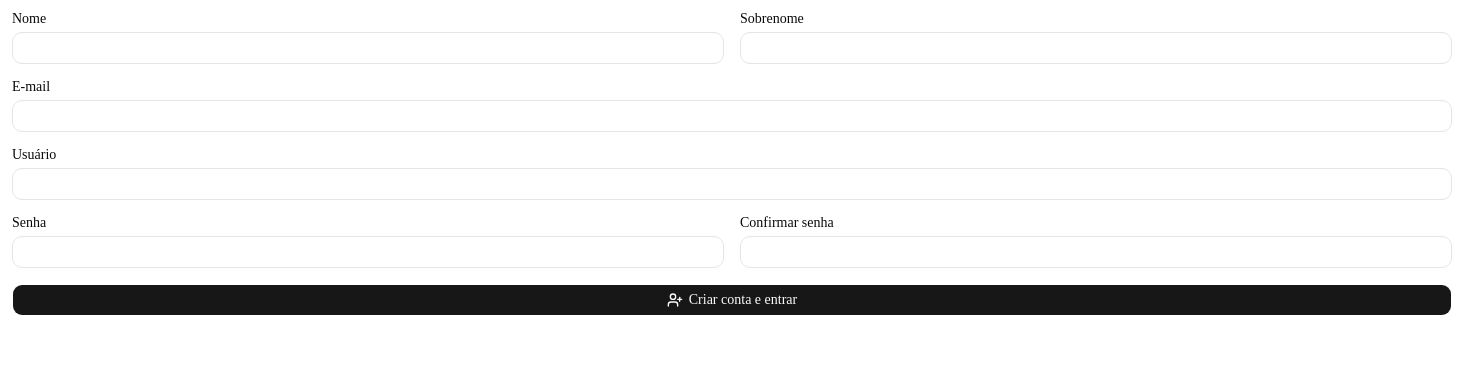
Test: FormularioCadastro › deve tolerar resposta de erro sem JSON
The image size is (1464, 384).
In the field labelled "Nome": (368, 48) [12, 32, 724, 64], type "Carla"
In the field labelled "Sobrenome": (1096, 48) [740, 32, 1452, 64], type "Dias"
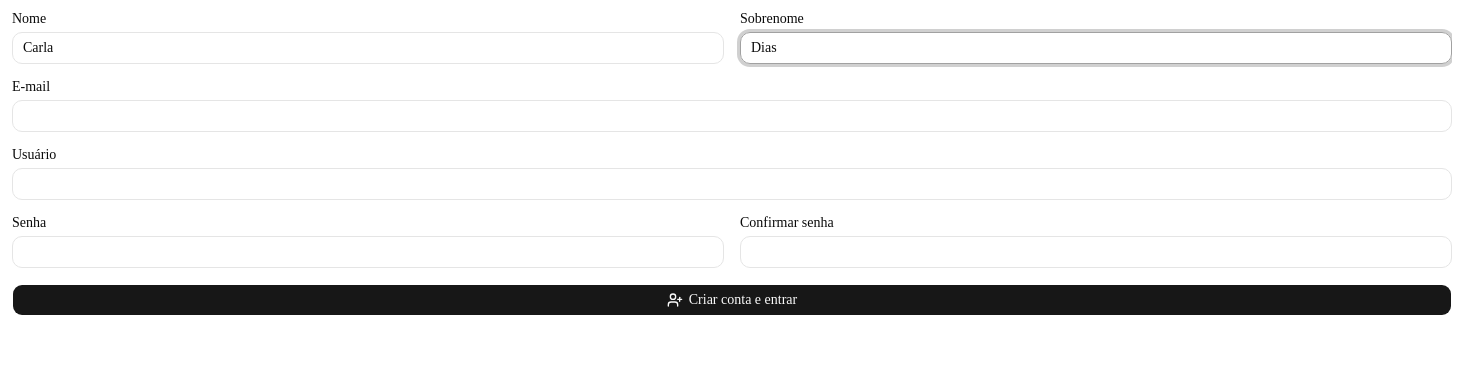
In the field labelled "E-mail": (732, 116) [12, 100, 1452, 132], type "carla@exemplo.com.br"
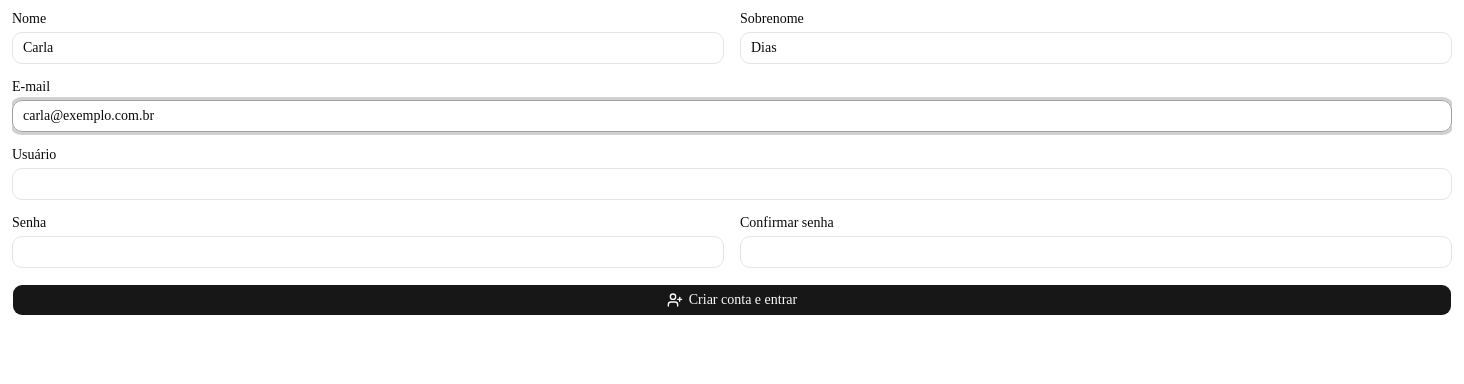
In the field labelled "Usuário": (732, 184) [12, 168, 1452, 200], type "carla"
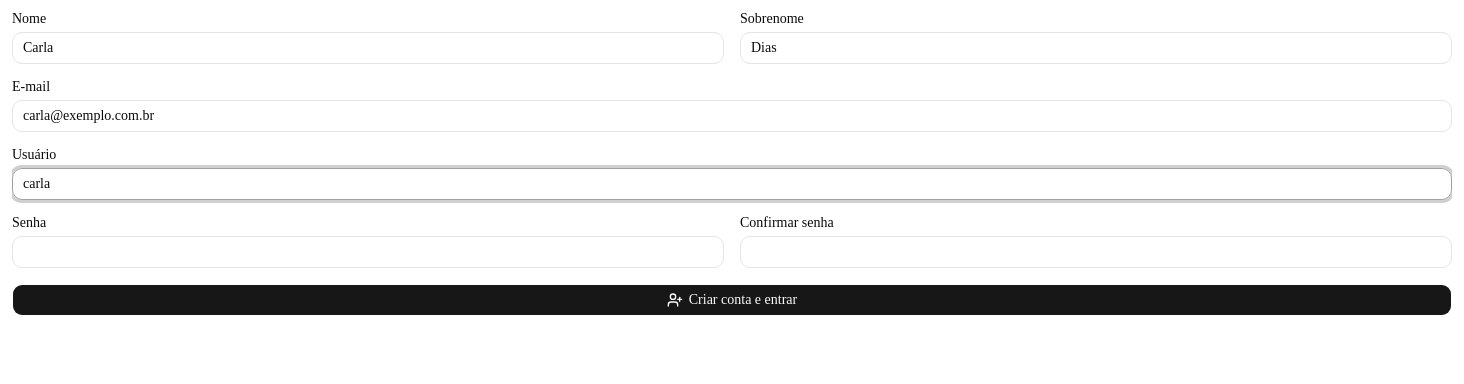
In the password field labelled "Senha": (368, 252) [12, 236, 724, 268], type "segredo123"
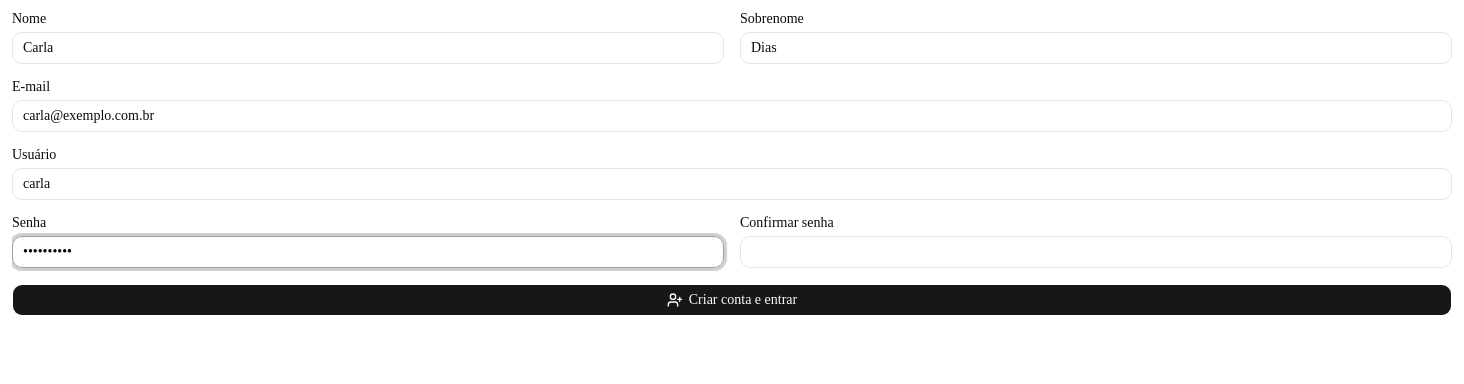
In the password field labelled "Confirmar senha": (1096, 252) [740, 236, 1452, 268], type "segredo123"
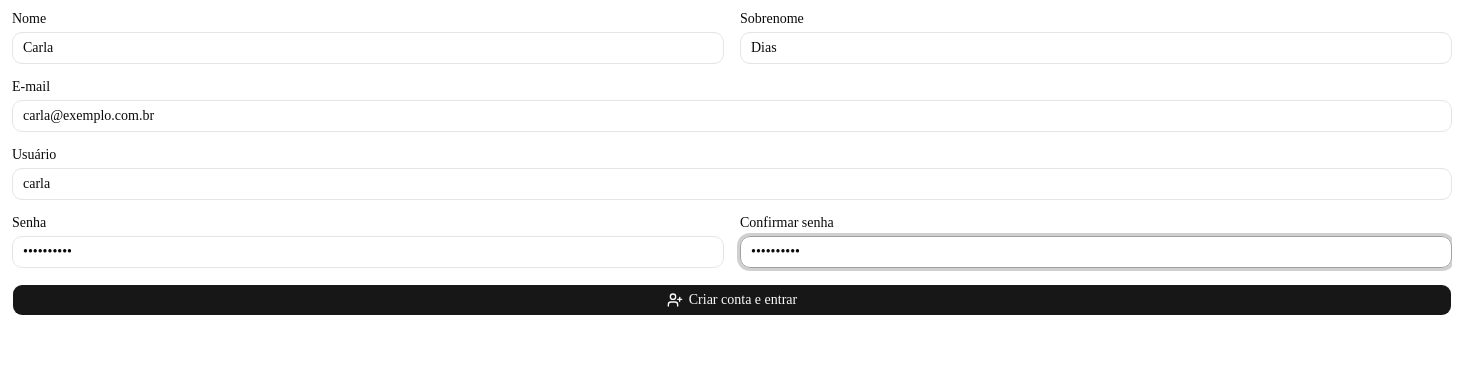
Click the button "Criar conta e entrar": (732, 300) [12, 284, 1452, 316]
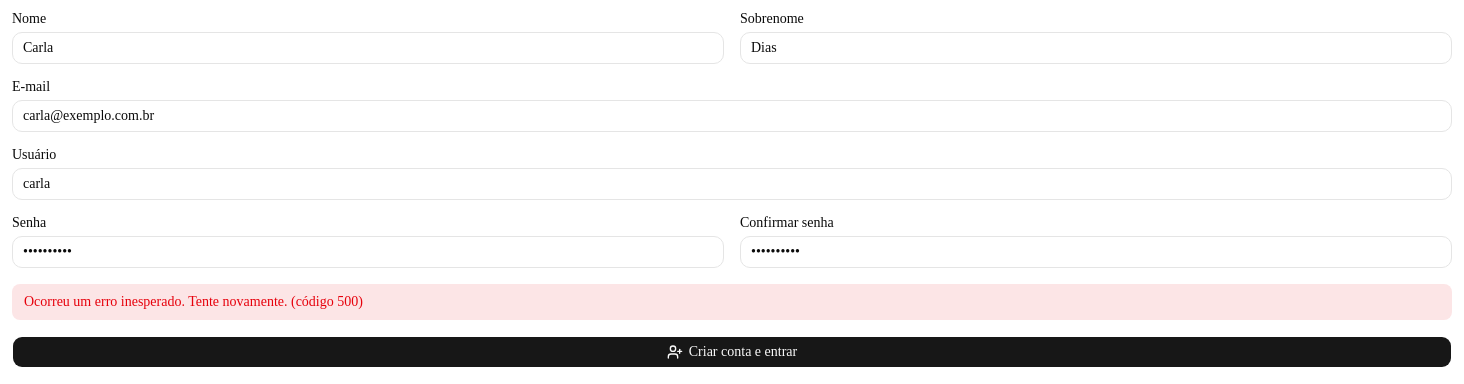
Now the text "Ocorreu um erro inesperado. Tente novamente. (código 500)" is shown, box [12, 284, 1452, 320]
